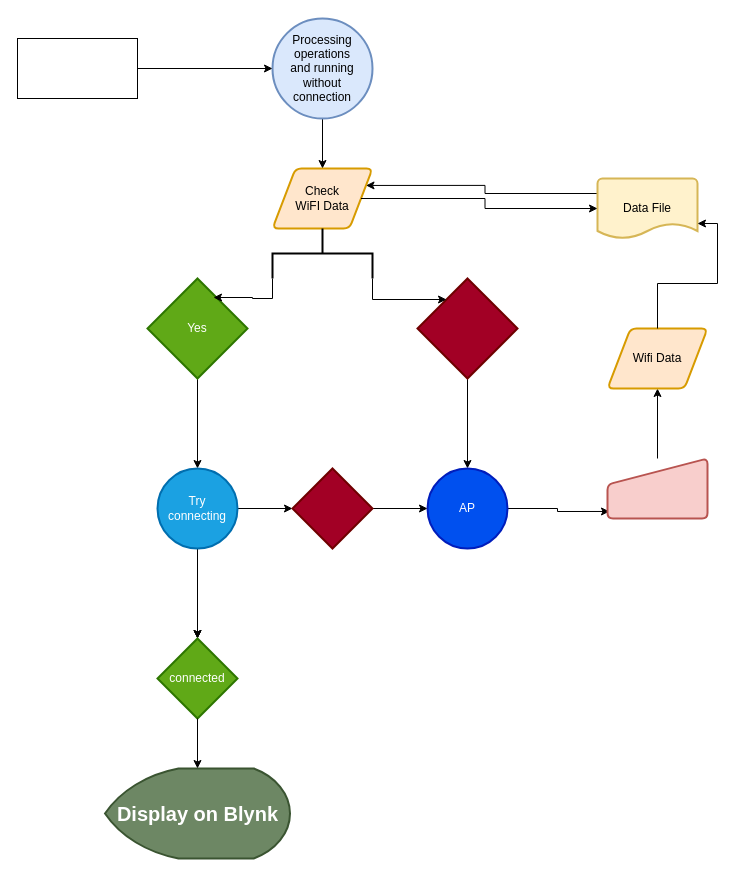
This 743x876 diagram has some shape labels left out. Here are the shapes that lost their labels. From the top down, the centre of each, then its label:
the point at 77,68: ESP32
the point at 467,328: No
the point at 332,508: Failed
the point at 657,488: User Input
